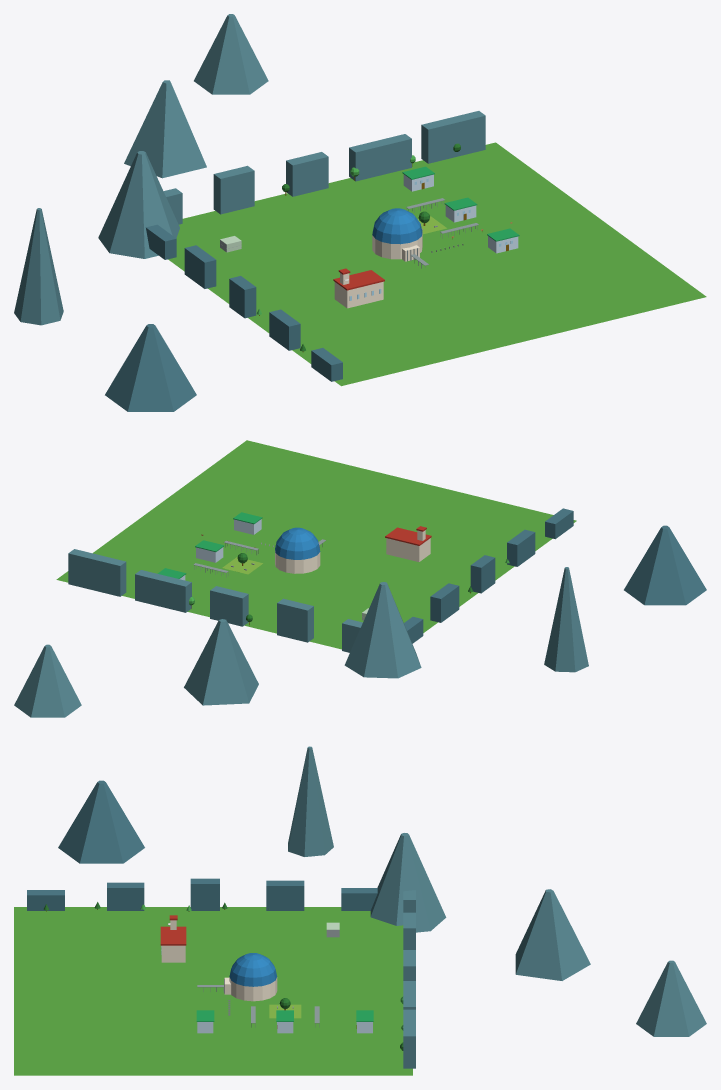
Rendered from sector_r0_c0.glb.
The picture shows the model from 3 angles, top to bottom: view 1: azimuth 30°, elevation 25°; view 2: azimuth 150°, elevation 25°; view 3: azimuth 270°, elevation 25°; orthographic projection. The views are drawn at different scales.
Parts seen in each view (by area): view 1: GROUND_r0_c0, MOUNTAIN_17, MOUNTAIN_15, MOUNTAIN_14, MOUNTAIN_13, MOUNTAIN_16, WALL_NorthCliff_4, WALL_NorthCliff_3, WALL_NorthCliff_1, WALL_NorthCliff_2, BUILDING_LectureHall_Dome, WALL_WestCliff_18 (+6 smaller); view 2: GROUND_r0_c0, MOUNTAIN_15, MOUNTAIN_14, MOUNTAIN_17, MOUNTAIN_13, MOUNTAIN_16, WALL_NorthCliff_4, WALL_NorthCliff_3, WALL_NorthCliff_1, WALL_NorthCliff_2, BUILDING_LectureHall_Dome, WALL_WestCliff_18 (+7 smaller); view 3: GROUND_r0_c0, MOUNTAIN_17, MOUNTAIN_14, MOUNTAIN_15, MOUNTAIN_13, MOUNTAIN_16, BUILDING_LectureHall_Dome, WALL_WestCliff_18, WALL_WestCliff_16, WALL_WestCliff_17, WALL_WestCliff_19, WALL_WestCliff_15 (+2 smaller).
Part boxes in pixels (left/top/right/bottom): GROUND_r0_c0: left=168, top=142, right=706, bottom=386; MOUNTAIN_17: left=105, top=324, right=196, bottom=411; MOUNTAIN_15: left=98, top=151, right=179, bottom=258; MOUNTAIN_14: left=124, top=80, right=206, bottom=178; MOUNTAIN_13: left=194, top=14, right=268, bottom=94; MOUNTAIN_16: left=14, top=208, right=63, bottom=325; WALL_NorthCliff_4: left=421, top=111, right=485, bottom=163; WALL_NorthCliff_3: left=349, top=134, right=411, bottom=181; WALL_NorthCliff_1: left=213, top=165, right=254, bottom=214; WALL_NorthCliff_2: left=286, top=152, right=328, bottom=196; BUILDING_LectureHall_Dome: left=372, top=208, right=422, bottom=244; WALL_WestCliff_18: left=184, top=245, right=216, bottom=288; GROUND_r0_c0: left=56, top=440, right=576, bottom=649; MOUNTAIN_15: left=344, top=582, right=421, bottom=678; MOUNTAIN_14: left=184, top=619, right=258, bottom=705; MOUNTAIN_17: left=624, top=525, right=706, bottom=605; MOUNTAIN_13: left=14, top=644, right=81, bottom=717; MOUNTAIN_16: left=544, top=567, right=588, bottom=672; WALL_NorthCliff_4: left=68, top=549, right=126, bottom=596; WALL_NorthCliff_3: left=135, top=570, right=191, bottom=612; WALL_NorthCliff_1: left=277, top=598, right=313, bottom=642; WALL_NorthCliff_2: left=210, top=586, right=248, bottom=626; BUILDING_LectureHall_Dome: left=275, top=527, right=320, bottom=559; WALL_WestCliff_18: left=430, top=583, right=459, bottom=622; GROUND_r0_c0: left=14, top=907, right=412, bottom=1075; MOUNTAIN_17: left=58, top=780, right=144, bottom=863; MOUNTAIN_14: left=515, top=889, right=590, bottom=980; MOUNTAIN_15: left=370, top=833, right=446, bottom=932; MOUNTAIN_13: left=636, top=960, right=706, bottom=1036; MOUNTAIN_16: left=288, top=746, right=333, bottom=856; BUILDING_LectureHall_Dome: left=229, top=953, right=277, bottom=986; WALL_WestCliff_18: left=266, top=880, right=304, bottom=910; WALL_WestCliff_16: left=107, top=882, right=144, bottom=910; WALL_WestCliff_17: left=190, top=878, right=219, bottom=910; WALL_WestCliff_19: left=341, top=888, right=377, bottom=910; WALL_WestCliff_15: left=27, top=890, right=64, bottom=910.
Bounding box in the file's own units: 372 × 68.98 × 434.
